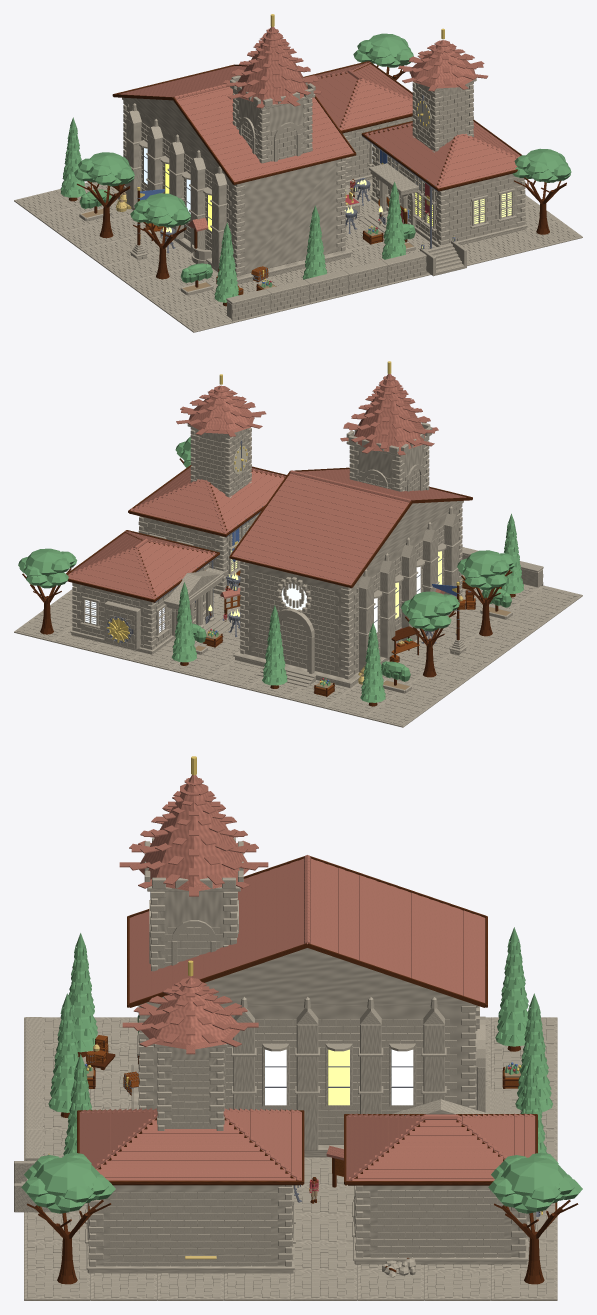
Rendered from fantasy-mmo-city-and-townsfolk-cathedral-close-13f1136b__32798.glb.
3 renders of one model, top to bottom at view 1: azimuth 30°, elevation 25°; view 2: azimuth 150°, elevation 25°; view 3: azimuth 270°, elevation 25°, orthographic. The views are drawn at different scales.
Parts seen in each view (by area): view 1: 080-city-cathedral/0, 080-city-cathedral/2, 081-city-town-hall/0, 081-city-town-hall/2, 082-grand-city-bank/2, 090-city-broadleaf-tree/1, 089-city-broadleaf-tree/1, 092-city-broadleaf-tree/1, 091-city-broadleaf-tree/1, 082-grand-city-bank/0, 080-city-cathedral/1, 083-cypress-tree/1 (+34 smaller); view 2: 080-city-cathedral/0, 080-city-cathedral/2, 081-city-town-hall/2, 082-grand-city-bank/0, 082-grand-city-bank/2, 081-city-town-hall/0, 090-city-broadleaf-tree/1, 089-city-broadleaf-tree/1, 092-city-broadleaf-tree/1, 080-city-cathedral/1, 086-cypress-tree/1, 087-cypress-tree/1 (+31 smaller); view 3: 080-city-cathedral/0, 080-city-cathedral/2, 081-city-town-hall/0, 081-city-town-hall/2, 082-grand-city-bank/0, 082-grand-city-bank/2, 091-city-broadleaf-tree/1, 092-city-broadleaf-tree/1, 080-city-cathedral/1, 086-cypress-tree/1, 080-city-cathedral/5, 084-cypress-tree/1 (+29 smaller).
Part boxes in pixels (x1=…): 080-city-cathedral/0: x1=118, y1=75, x2=352, y2=284; 080-city-cathedral/2: x1=119, y1=26, x2=353, y2=181; 081-city-town-hall/0: x1=359, y1=72, x2=527, y2=246; 081-city-town-hall/2: x1=364, y1=40, x2=520, y2=188; 082-grand-city-bank/2: x1=307, y1=62, x2=413, y2=130; 090-city-broadleaf-tree/1: x1=74, y1=152, x2=134, y2=186; 089-city-broadleaf-tree/1: x1=130, y1=193, x2=190, y2=227; 092-city-broadleaf-tree/1: x1=353, y1=33, x2=413, y2=67; 091-city-broadleaf-tree/1: x1=513, y1=148, x2=571, y2=182; 082-grand-city-bank/0: x1=342, y1=116, x2=413, y2=185; 080-city-cathedral/1: x1=112, y1=64, x2=356, y2=184; 083-cypress-tree/1: x1=214, y1=222, x2=238, y2=302; 080-city-cathedral/0: x1=233, y1=422, x2=465, y2=687; 080-city-cathedral/2: x1=232, y1=374, x2=466, y2=585; 081-city-town-hall/2: x1=130, y1=385, x2=285, y2=533; 082-grand-city-bank/0: x1=70, y1=564, x2=232, y2=654; 082-grand-city-bank/2: x1=67, y1=531, x2=216, y2=599; 081-city-town-hall/0: x1=138, y1=417, x2=259, y2=594; 090-city-broadleaf-tree/1: x1=401, y1=591, x2=459, y2=631; 089-city-broadleaf-tree/1: x1=457, y1=550, x2=515, y2=590; 092-city-broadleaf-tree/1: x1=18, y1=548, x2=77, y2=588; 080-city-cathedral/1: x1=229, y1=467, x2=472, y2=587; 086-cypress-tree/1: x1=360, y1=622, x2=385, y2=702; 087-cypress-tree/1: x1=262, y1=605, x2=287, y2=685; 080-city-cathedral/0: x1=131, y1=838, x2=511, y2=1157; 080-city-cathedral/2: x1=119, y1=775, x2=485, y2=1002; 081-city-town-hall/0: x1=85, y1=1044, x2=295, y2=1273; 081-city-town-hall/2: x1=79, y1=977, x2=301, y2=1180; 082-grand-city-bank/0: x1=352, y1=1099, x2=536, y2=1264; 082-grand-city-bank/2: x1=346, y1=1113, x2=535, y2=1180; 091-city-broadleaf-tree/1: x1=21, y1=1152, x2=115, y2=1213; 092-city-broadleaf-tree/1: x1=488, y1=1152, x2=582, y2=1213; 080-city-cathedral/1: x1=127, y1=856, x2=487, y2=1007; 086-cypress-tree/1: x1=495, y1=927, x2=528, y2=1046; 080-city-cathedral/5: x1=265, y1=1049, x2=413, y2=1105; 084-cypress-tree/1: x1=48, y1=993, x2=78, y2=1112.
Bounding box in the file's own units: 40.03 × 23.84 × 34.12.
16 materials, 7 textured.
